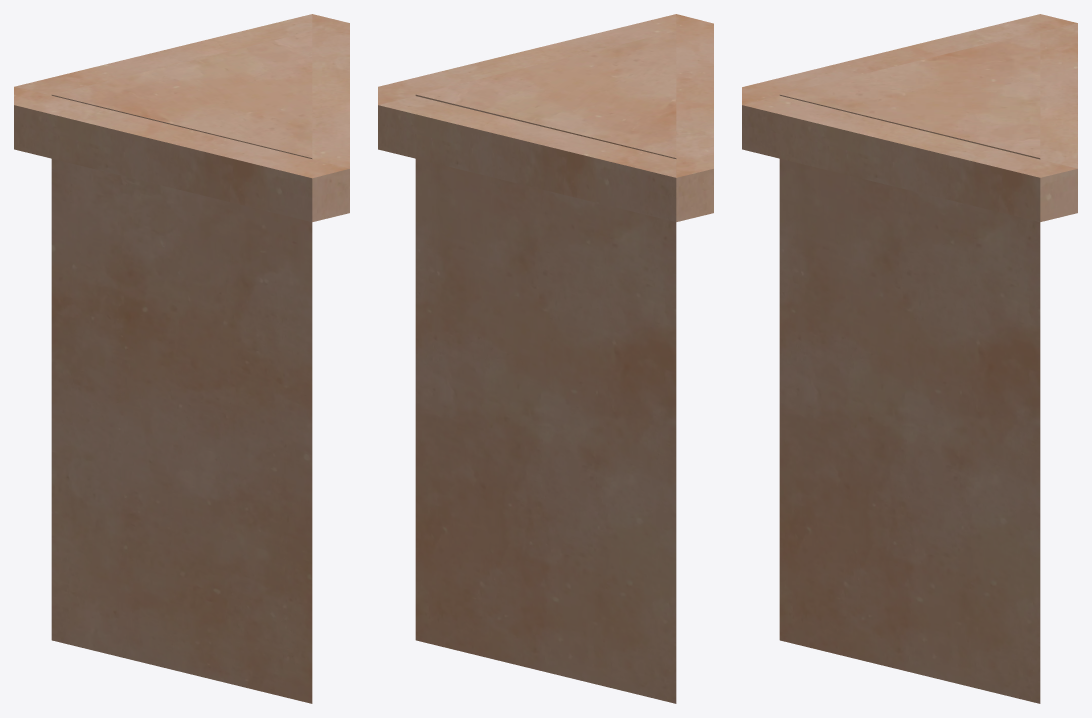
The picture shows the model from 3 angles, left to right: view 1: azimuth 30°, elevation 25°; view 2: azimuth 150°, elevation 25°; view 3: azimuth 270°, elevation 25°; orthographic projection.
Parts seen in each view (by area): view 1: SM_BB_T4_Foundation_Triangle_Med_03_LOD0; view 2: SM_BB_T4_Foundation_Triangle_Med_03_LOD0; view 3: SM_BB_T4_Foundation_Triangle_Med_03_LOD0.
Boxes of the visible parts, bbox=[...] form: SM_BB_T4_Foundation_Triangle_Med_03_LOD0: bbox=[14, 14, 349, 703]; SM_BB_T4_Foundation_Triangle_Med_03_LOD0: bbox=[378, 14, 713, 703]; SM_BB_T4_Foundation_Triangle_Med_03_LOD0: bbox=[742, 14, 1077, 703].
Size of the model in its own units: 1.93 by 3 by 1.67.
1 material, 1 textured.
